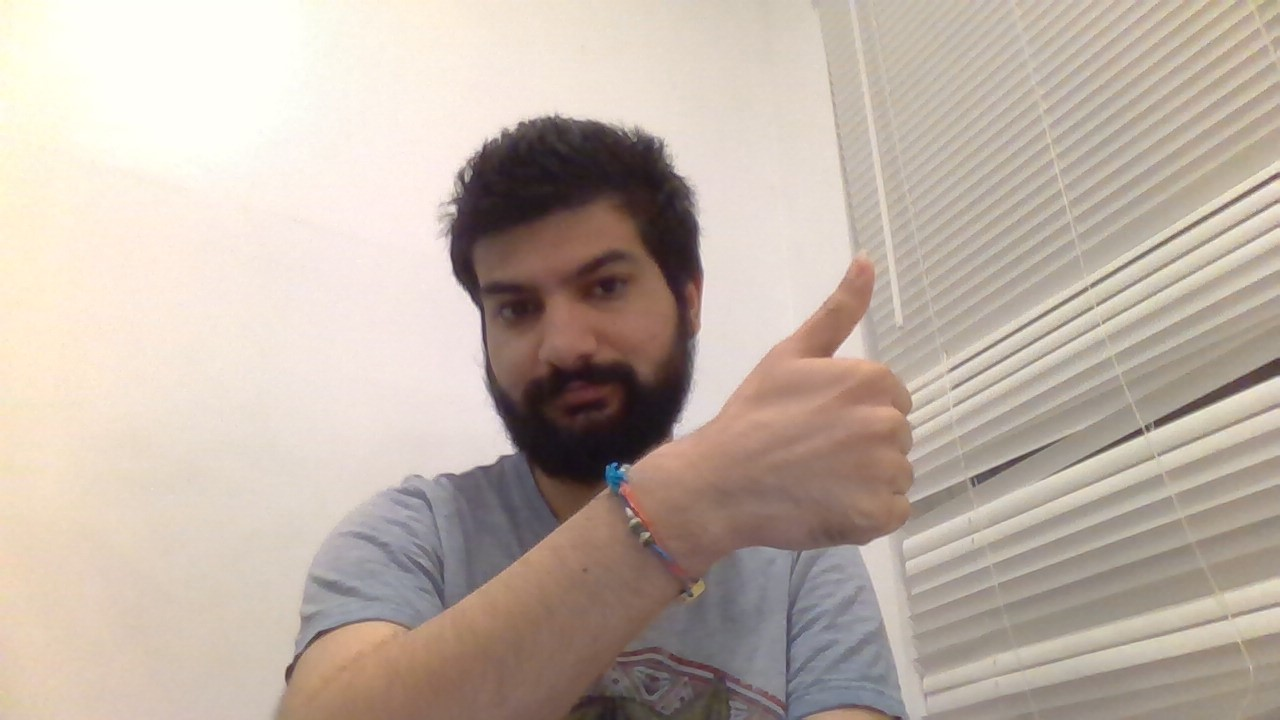up: (750, 249, 926, 555)
